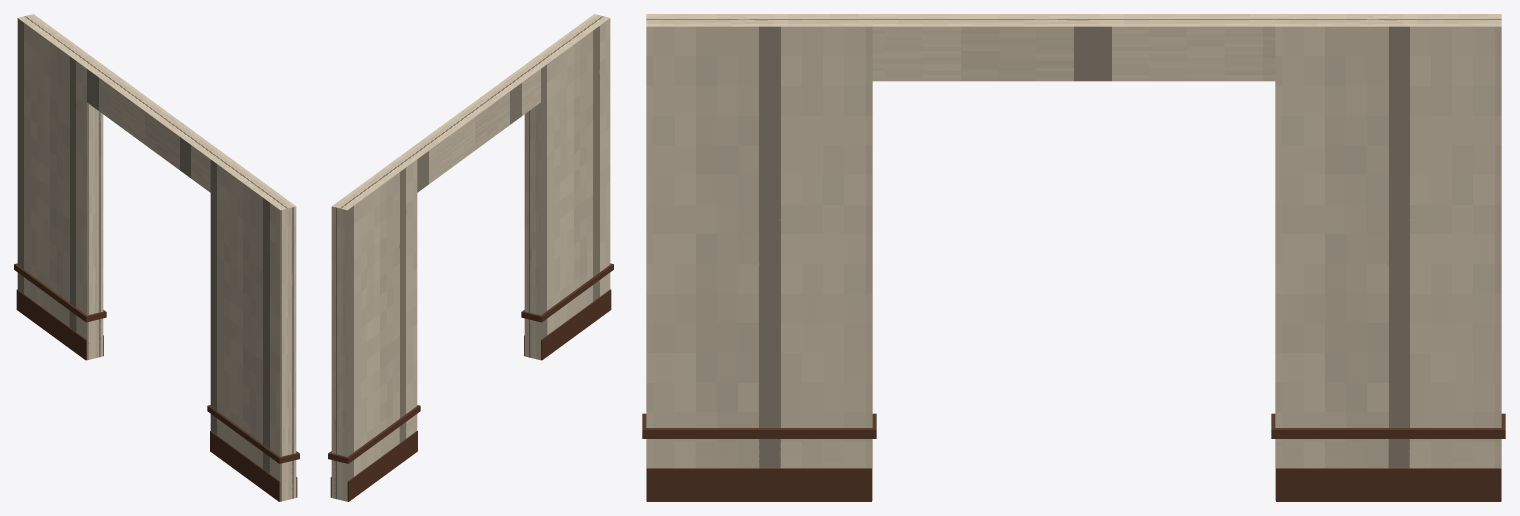
File: living_dining.glb
3 renders of one model, left to right at view 1: azimuth 30°, elevation 25°; view 2: azimuth 150°, elevation 25°; view 3: azimuth 270°, elevation 25°, orthographic. The views are drawn at different scales.
Parts seen in each view (by area): view 1: Box3, Box1, Box5, Box4, Box2, Box6, Box8, Box9, Box7; view 2: Box1, Box3, Box5, Box2, Box4, Box6, Box8, Box7, Box9; view 3: Box3, Box1, Box5, Box2, Box4, Box8, Box6, Box7, Box9.
Part boxes in pixels (<box>): Box3: <box>210,155,296,501</box>; Box1: <box>17,14,103,360</box>; Box5: <box>87,65,226,192</box>; Box4: <box>210,431,297,501</box>; Box2: <box>16,289,103,360</box>; Box6: <box>18,282,103,359</box>; Box8: <box>210,414,296,501</box>; Box9: <box>207,405,299,463</box>; Box7: <box>14,263,106,322</box>; Box1: <box>331,155,417,501</box>; Box3: <box>524,14,610,360</box>; Box5: <box>401,65,540,192</box>; Box2: <box>330,431,417,501</box>; Box4: <box>524,289,611,360</box>; Box6: <box>331,414,417,501</box>; Box8: <box>524,284,606,359</box>; Box7: <box>328,405,420,463</box>; Box9: <box>521,263,613,322</box>; Box3: <box>646,14,872,500</box>; Box1: <box>1275,14,1501,500</box>; Box5: <box>872,14,1275,81</box>; Box2: <box>1276,468,1501,501</box>; Box4: <box>646,468,871,501</box>; Box8: <box>646,439,872,498</box>; Box6: <box>1275,439,1501,500</box>; Box7: <box>1271,413,1505,438</box>; Box9: <box>642,413,876,438</box>.
Size of the model in its own units: 0.19 by 2.6 by 4.29.
Materials: 2 (1 with a texture image).
